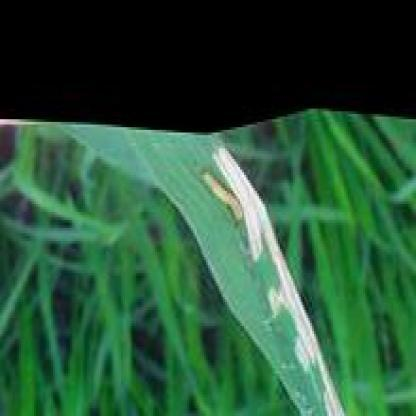leaf-folder: (196, 164, 249, 236)
